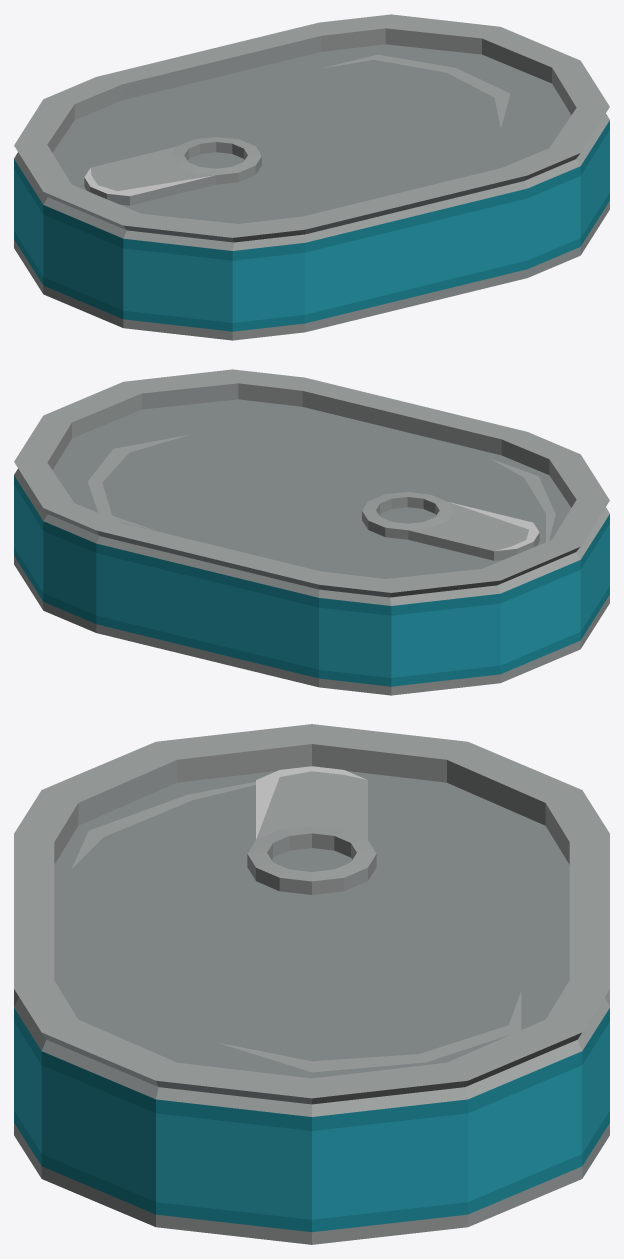
Rendered from mesh_tuna_can_blue.fbx.
3 renders of one model, top to bottom at view 1: azimuth 30°, elevation 25°; view 2: azimuth 150°, elevation 25°; view 3: azimuth 270°, elevation 25°, orthographic. The views are drawn at different scales.
Parts seen in each view (by area): view 1: mesh_tuna_can_blue; view 2: mesh_tuna_can_blue; view 3: mesh_tuna_can_blue.
Boxes of the visible parts, bbox=[...] form: mesh_tuna_can_blue: bbox=[14, 14, 609, 340]; mesh_tuna_can_blue: bbox=[14, 369, 609, 695]; mesh_tuna_can_blue: bbox=[14, 724, 609, 1244].
Bounding box in the file's own units: 0.3691 × 0.0724 × 0.2484.
